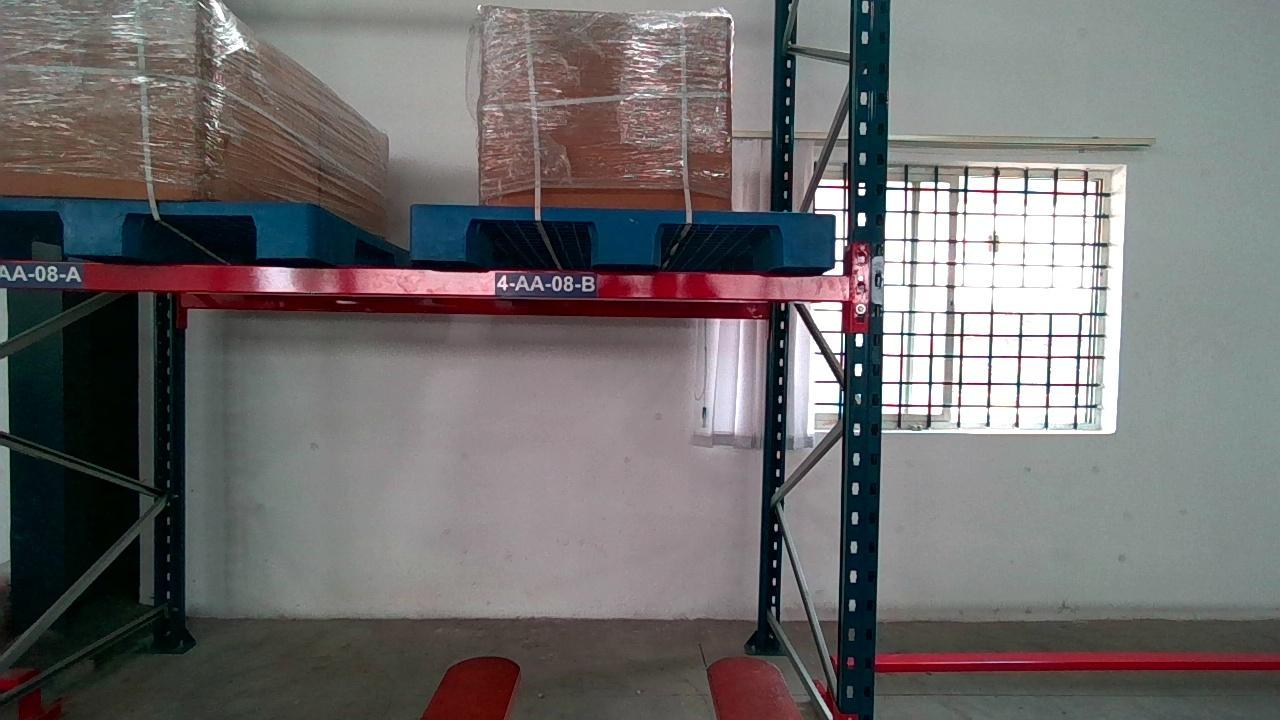h_rack: (8, 256, 866, 307)
small_pallet: (412, 205, 835, 271), (1, 195, 319, 260)
